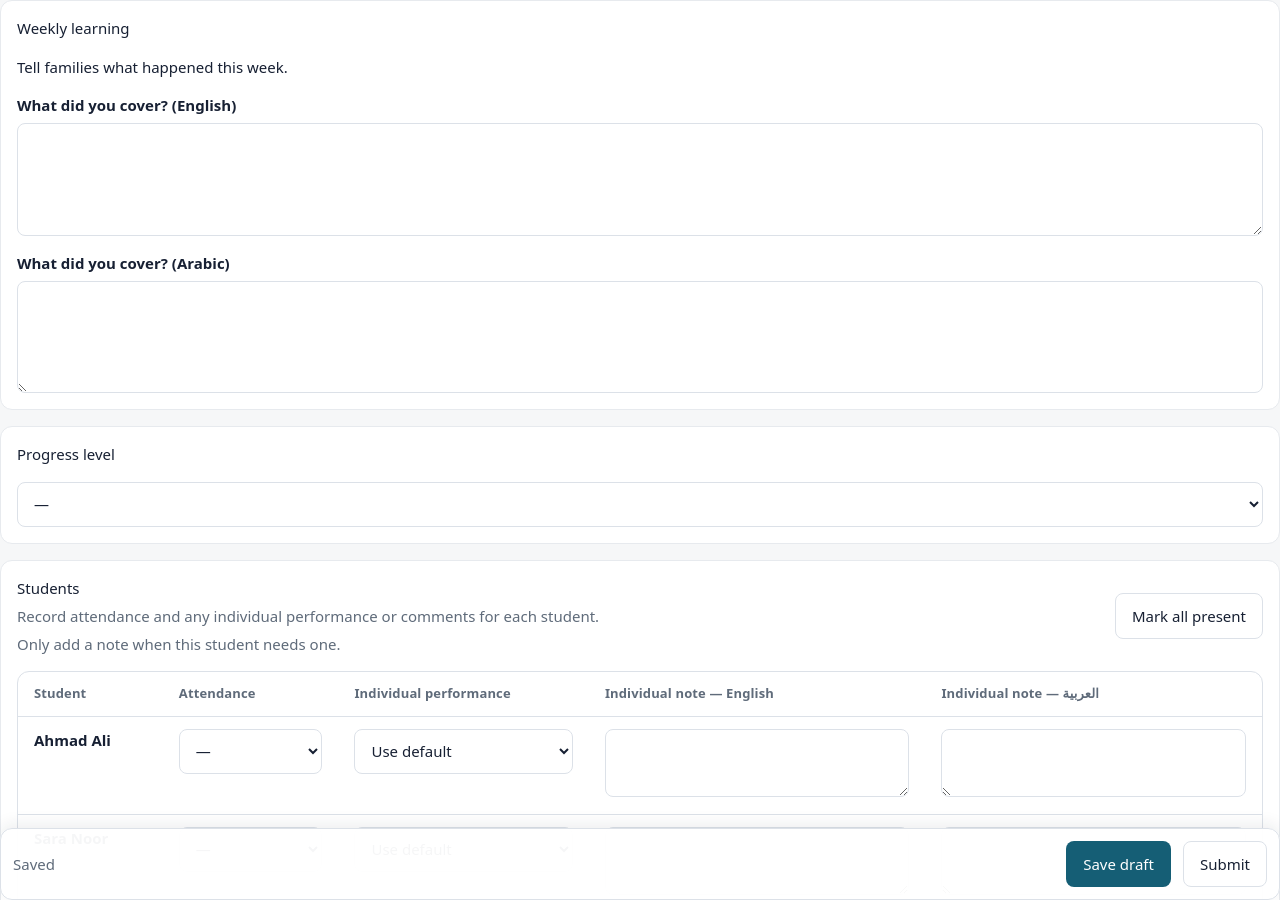
Test: weekly update form › keeps navigation protection after a failed save
Click the button "Mark all present" at coordinates (1189, 616), box 1115,593 -> 1263,639
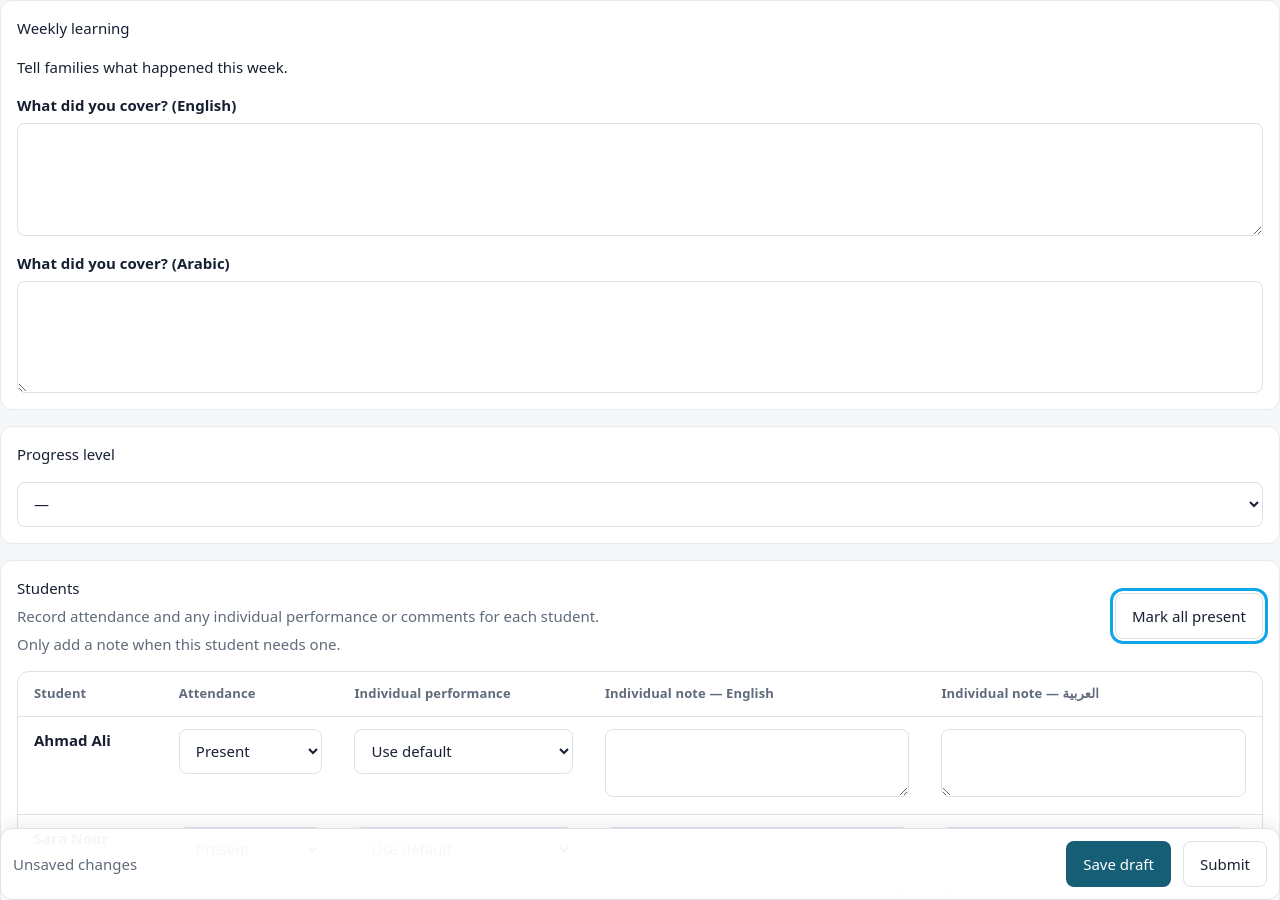
Type "Changed" into the text box labelled "What did you cover? (English)" at coordinates (640, 179), box 17,123 -> 1263,236
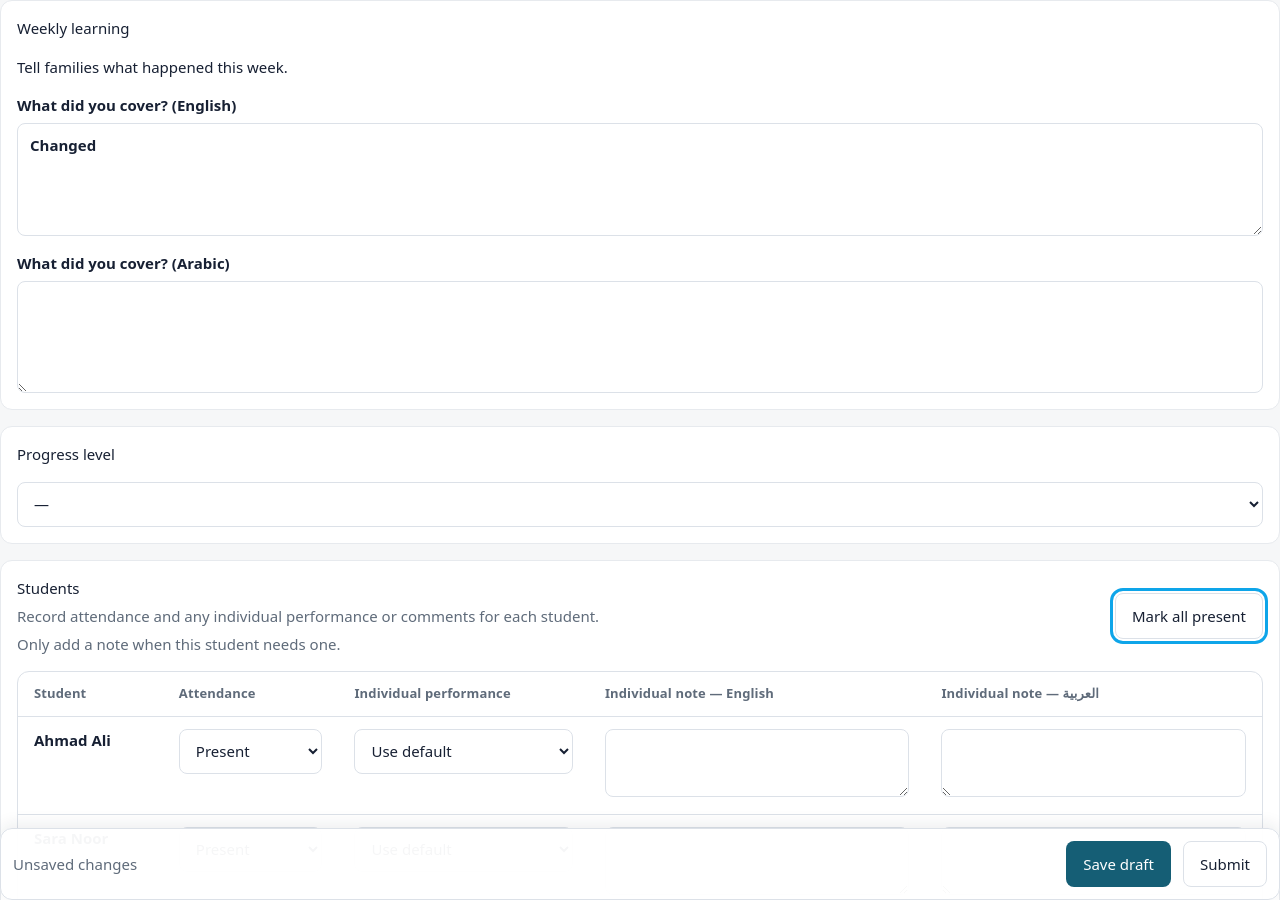
Click the button "Save draft" at coordinates (1119, 864), box 1066,842 -> 1171,887
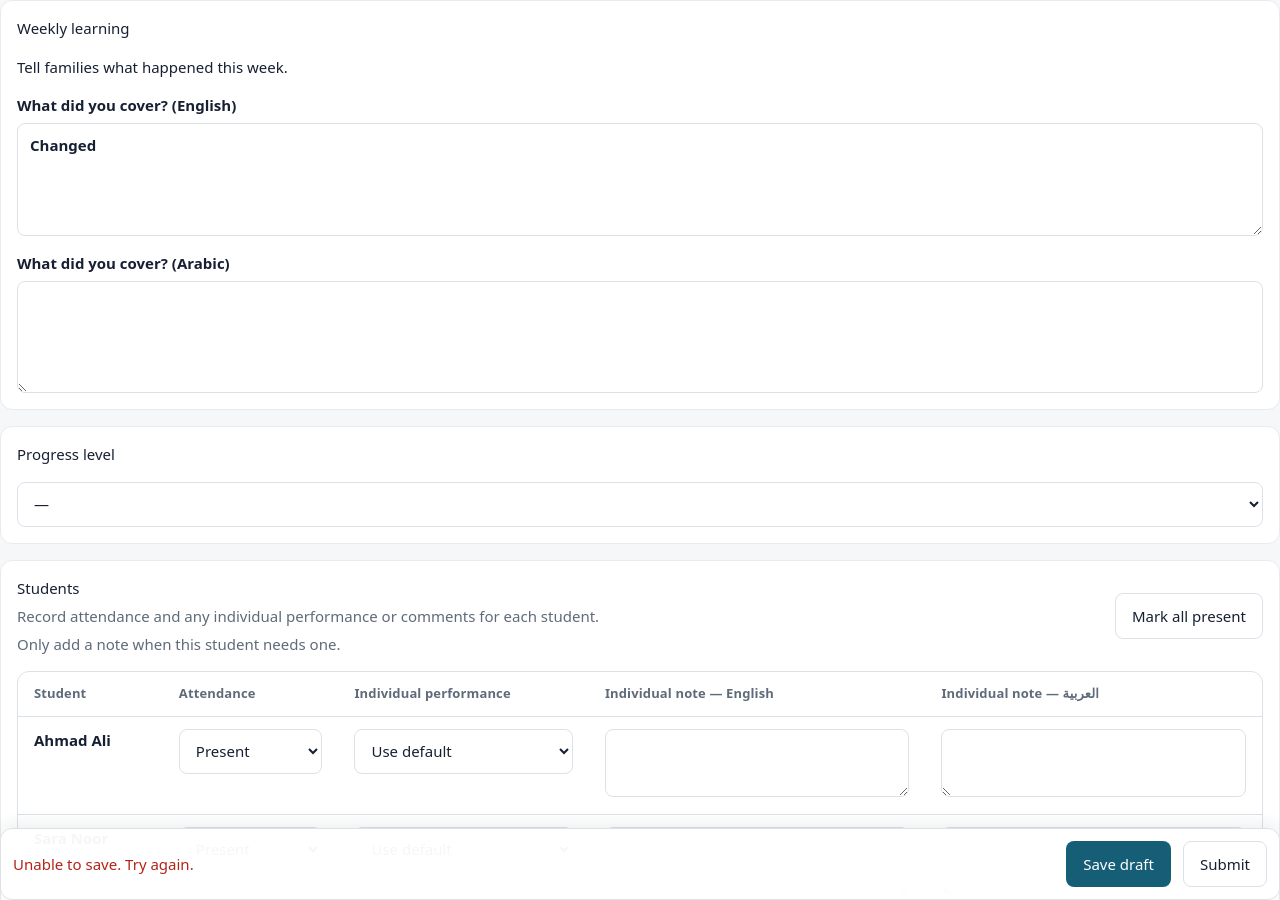
Now the text "Unable to save. Try again." is shown, box 13,853 -> 194,876
